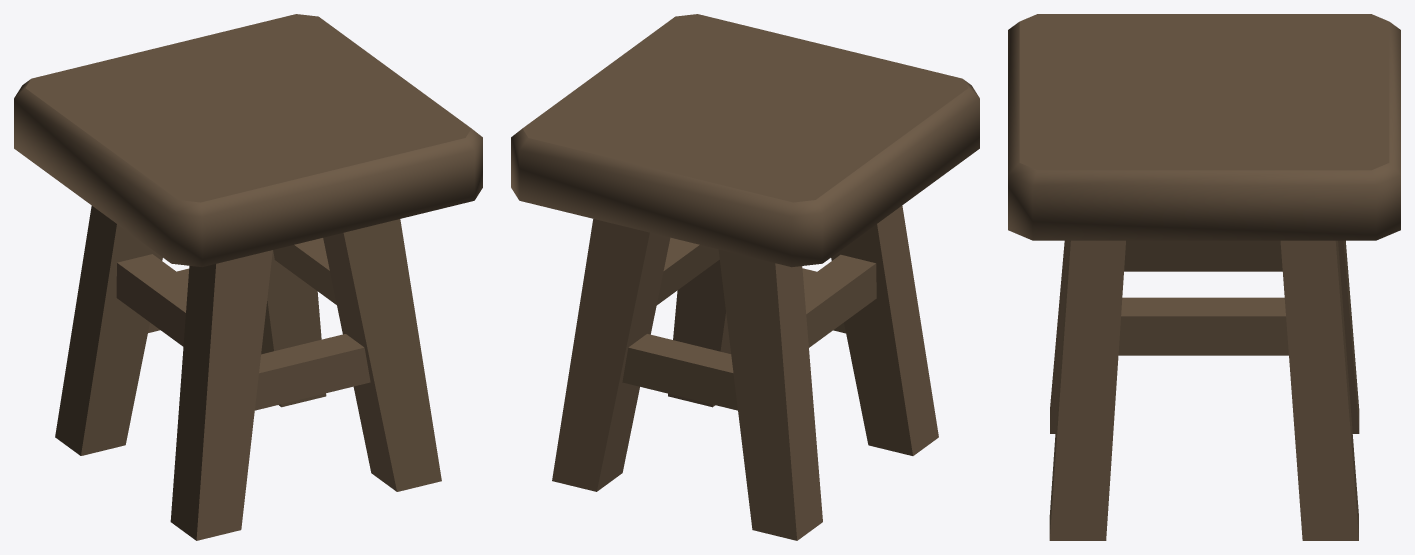
File: stool.gltf
3 renders of one model, left to right at view 1: azimuth 30°, elevation 25°; view 2: azimuth 150°, elevation 25°; view 3: azimuth 270°, elevation 25°, orthographic. The views are drawn at different scales.
Visible parts, largest first — view 1: Stool_square; view 2: Stool_square; view 3: Stool_square.
Part boxes in pixels (<box>): Stool_square: <box>14,14,482,540</box>; Stool_square: <box>511,14,979,540</box>; Stool_square: <box>1008,14,1400,540</box>.
Bounding box in the file's own units: 0.4514 × 0.4859 × 0.4514.
1 material, 1 textured.
